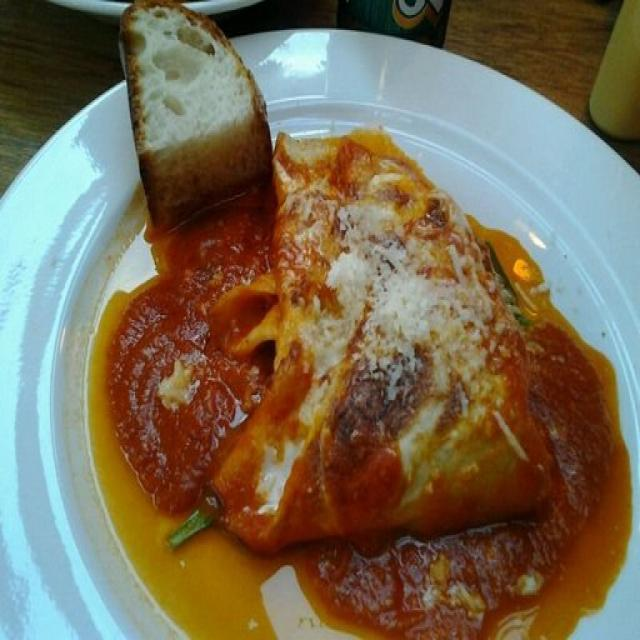Lasagna: (262, 138, 573, 580)
